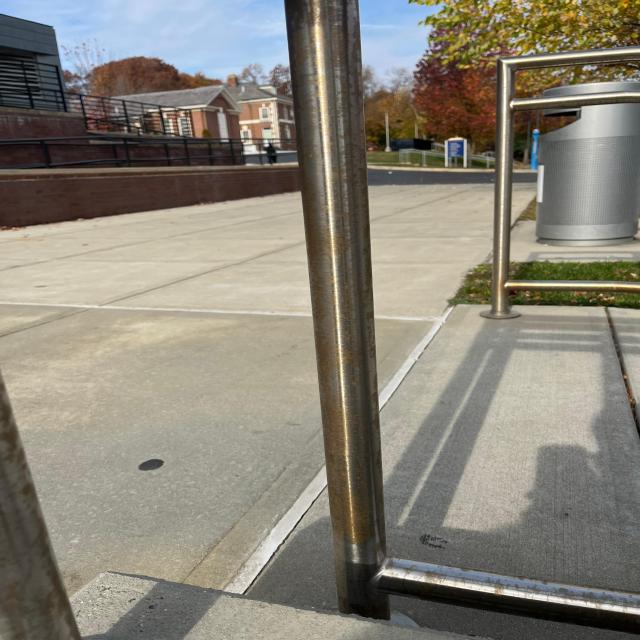Uniform Corrosion: (313, 194, 636, 621)
